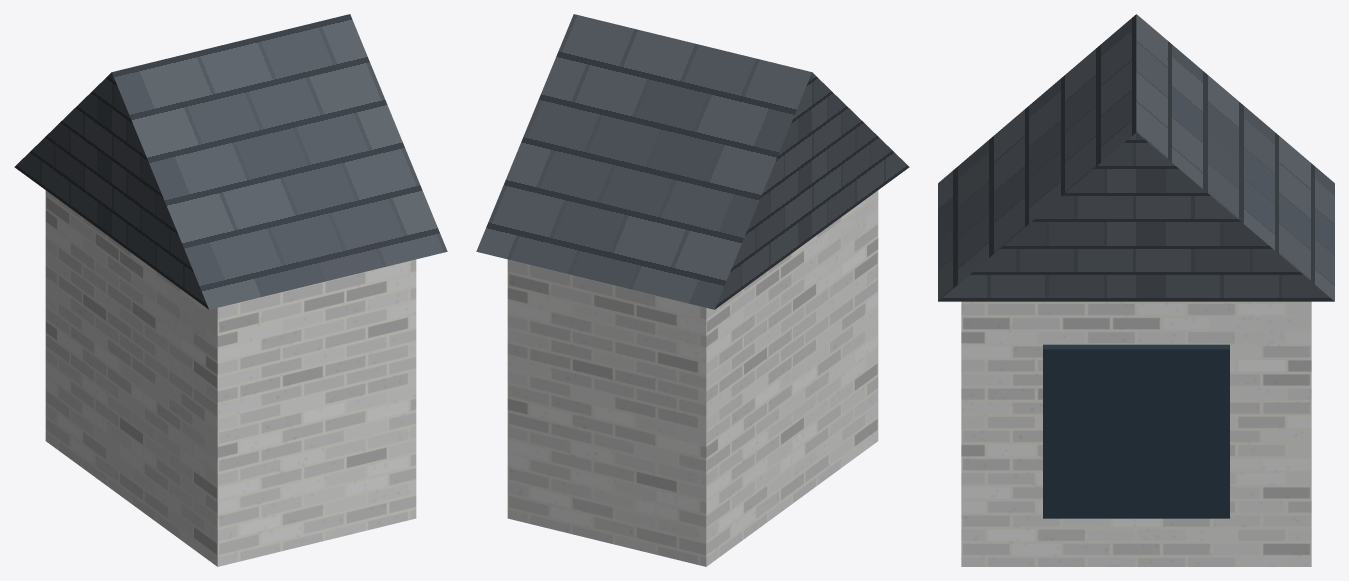
Rendered from villa-dormer.obj.
3 views of the same model, side by side, from view 1: azimuth 30°, elevation 25°; view 2: azimuth 150°, elevation 25°; view 3: azimuth 270°, elevation 25° (orthographic).
Parts seen in each view (by area): view 1: part1, part2; view 2: part1, part2; view 3: part2, part1, part3.nocast.
Boxes of the visible parts, x1,y1,x2,y2 form: part1: (45, 190, 416, 566); part2: (14, 14, 447, 309); part1: (507, 190, 878, 566); part2: (476, 14, 909, 309); part2: (938, 14, 1334, 301); part1: (961, 301, 1311, 566); part3.nocast: (1043, 344, 1229, 518).
Size of the model in its own units: 1.2 by 2.1 by 1.7.
3 materials, 2 textured.
